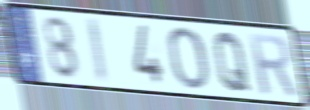4: (132, 23, 167, 88)
8: (41, 14, 80, 82)
I: (84, 16, 110, 86)
O: (166, 25, 211, 92)
Q: (212, 30, 252, 94)
R: (246, 31, 300, 98)
